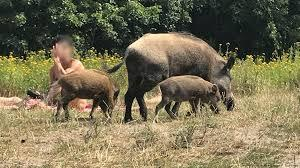wildboar: (106, 29, 237, 123), (151, 74, 222, 124), (55, 68, 119, 122)
